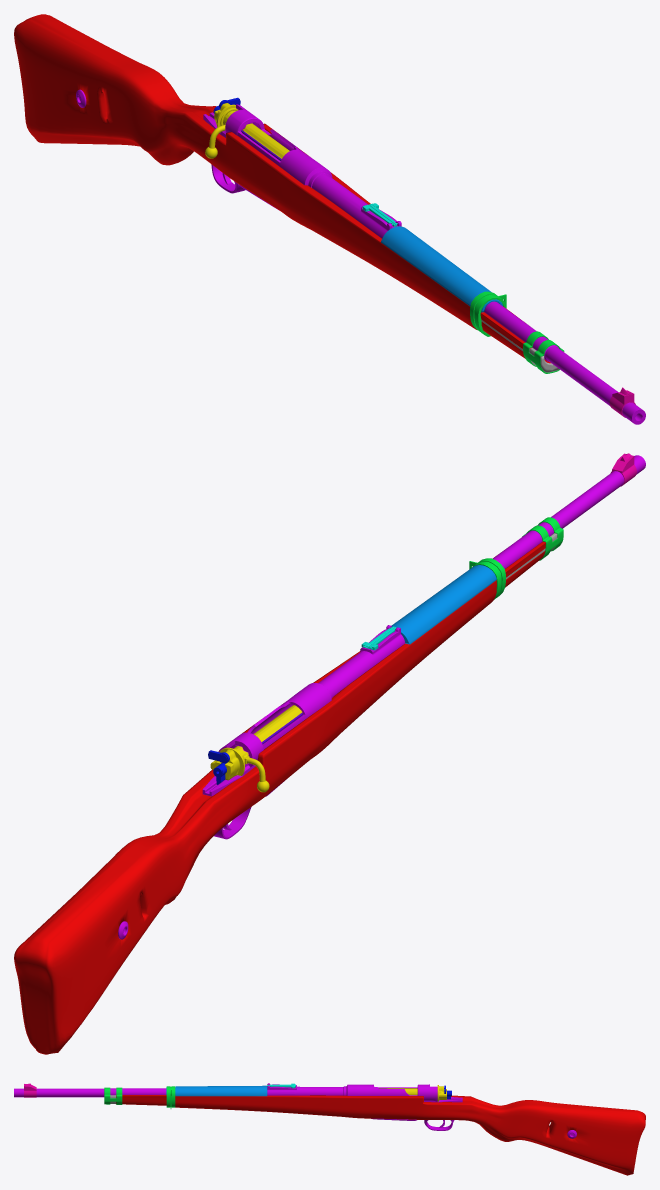
File: combinedKar98k.fbx
3 renders of one model, top to bottom at view 1: azimuth 30°, elevation 25°; view 2: azimuth 150°, elevation 25°; view 3: azimuth 270°, elevation 25°, orthographic. The views are drawn at different scales.
Parts seen in each view (by area): view 1: fullGun; view 2: fullGun; view 3: fullGun.
Part boxes in pixels (<box>): fullGun: <box>14,14,645,424</box>; fullGun: <box>14,453,645,1054</box>; fullGun: <box>14,1083,645,1175</box>.
Bounding box in the file's own units: 0.6172 × 1.84 × 11.61.
